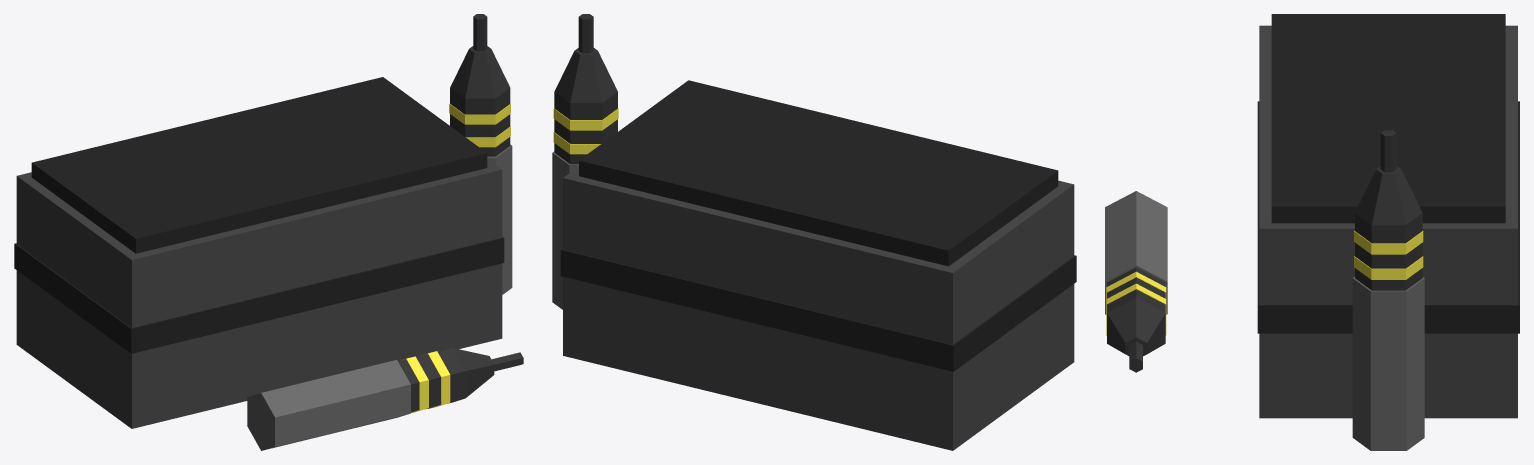
The model's file is ce_ammo2_rcl84heat_heat_c.obj.
The picture shows the model from 3 angles, left to right: view 1: azimuth 30°, elevation 25°; view 2: azimuth 150°, elevation 25°; view 3: azimuth 270°, elevation 25°; orthographic projection. The views are drawn at different scales.
Visible parts, largest first — view 1: ce_ammo2_rcl84heat_heat_c_0, ce_ammo2_rcl84heat_heat_c_1, ce_ammo2_rcl84heat_heat_c_2, ce_ammo2_rcl84heat_heat_c_11, ce_ammo2_rcl84heat_heat_c_9, ce_ammo2_rcl84heat_heat_c_3, ce_ammo2_rcl84heat_heat_c_17, ce_ammo2_rcl84heat_heat_c_8, ce_ammo2_rcl84heat_heat_c_16, ce_ammo2_rcl84heat_heat_c_6, ce_ammo2_rcl84heat_heat_c_14, ce_ammo2_rcl84heat_heat_c_7 (+3 smaller); view 2: ce_ammo2_rcl84heat_heat_c_0, ce_ammo2_rcl84heat_heat_c_1, ce_ammo2_rcl84heat_heat_c_2, ce_ammo2_rcl84heat_heat_c_9, ce_ammo2_rcl84heat_heat_c_3, ce_ammo2_rcl84heat_heat_c_8, ce_ammo2_rcl84heat_heat_c_6, ce_ammo2_rcl84heat_heat_c_7, ce_ammo2_rcl84heat_heat_c_10; view 3: ce_ammo2_rcl84heat_heat_c_1, ce_ammo2_rcl84heat_heat_c_0, ce_ammo2_rcl84heat_heat_c_3, ce_ammo2_rcl84heat_heat_c_2, ce_ammo2_rcl84heat_heat_c_11, ce_ammo2_rcl84heat_heat_c_9, ce_ammo2_rcl84heat_heat_c_17, ce_ammo2_rcl84heat_heat_c_8, ce_ammo2_rcl84heat_heat_c_6, ce_ammo2_rcl84heat_heat_c_7, ce_ammo2_rcl84heat_heat_c_5, ce_ammo2_rcl84heat_heat_c_4 (+3 smaller).
Boxes of the visible parts, left/top/right/bottom form: ce_ammo2_rcl84heat_heat_c_0: left=16, top=159, right=502, bottom=428; ce_ammo2_rcl84heat_heat_c_1: left=31, top=77, right=487, bottom=253; ce_ammo2_rcl84heat_heat_c_2: left=14, top=237, right=504, bottom=353; ce_ammo2_rcl84heat_heat_c_11: left=247, top=360, right=410, bottom=450; ce_ammo2_rcl84heat_heat_c_9: left=450, top=46, right=509, bottom=98; ce_ammo2_rcl84heat_heat_c_3: left=487, top=144, right=512, bottom=294; ce_ammo2_rcl84heat_heat_c_17: left=453, top=348, right=494, bottom=397; ce_ammo2_rcl84heat_heat_c_8: left=450, top=88, right=510, bottom=114; ce_ammo2_rcl84heat_heat_c_16: left=438, top=348, right=465, bottom=403; ce_ammo2_rcl84heat_heat_c_6: left=450, top=114, right=510, bottom=137; ce_ammo2_rcl84heat_heat_c_14: left=416, top=354, right=440, bottom=409; ce_ammo2_rcl84heat_heat_c_7: left=449, top=103, right=510, bottom=124; ce_ammo2_rcl84heat_heat_c_0: left=563, top=166, right=1074, bottom=450; ce_ammo2_rcl84heat_heat_c_1: left=579, top=80, right=1058, bottom=266; ce_ammo2_rcl84heat_heat_c_2: left=560, top=248, right=1076, bottom=371; ce_ammo2_rcl84heat_heat_c_9: left=554, top=48, right=617, bottom=102; ce_ammo2_rcl84heat_heat_c_3: left=552, top=151, right=578, bottom=309; ce_ammo2_rcl84heat_heat_c_8: left=554, top=91, right=617, bottom=119; ce_ammo2_rcl84heat_heat_c_6: left=554, top=119, right=617, bottom=143; ce_ammo2_rcl84heat_heat_c_7: left=553, top=108, right=618, bottom=130; ce_ammo2_rcl84heat_heat_c_10: left=578, top=14, right=593, bottom=53; ce_ammo2_rcl84heat_heat_c_1: left=1271, top=14, right=1505, bottom=223; ce_ammo2_rcl84heat_heat_c_0: left=1259, top=25, right=1517, bottom=418; ce_ammo2_rcl84heat_heat_c_3: left=1352, top=277, right=1424, bottom=450; ce_ammo2_rcl84heat_heat_c_2: left=1257, top=101, right=1519, bottom=333; ce_ammo2_rcl84heat_heat_c_11: left=1105, top=191, right=1167, bottom=314; ce_ammo2_rcl84heat_heat_c_9: left=1355, top=166, right=1422, bottom=225; ce_ammo2_rcl84heat_heat_c_17: left=1107, top=297, right=1165, bottom=356; ce_ammo2_rcl84heat_heat_c_8: left=1355, top=213, right=1422, bottom=243; ce_ammo2_rcl84heat_heat_c_6: left=1355, top=242, right=1422, bottom=268; ce_ammo2_rcl84heat_heat_c_7: left=1354, top=230, right=1423, bottom=254; ce_ammo2_rcl84heat_heat_c_5: left=1354, top=256, right=1423, bottom=279; ce_ammo2_rcl84heat_heat_c_4: left=1355, top=268, right=1422, bottom=290.
Bounding box in the file's own units: 0.9087 × 0.546 × 0.6737.
